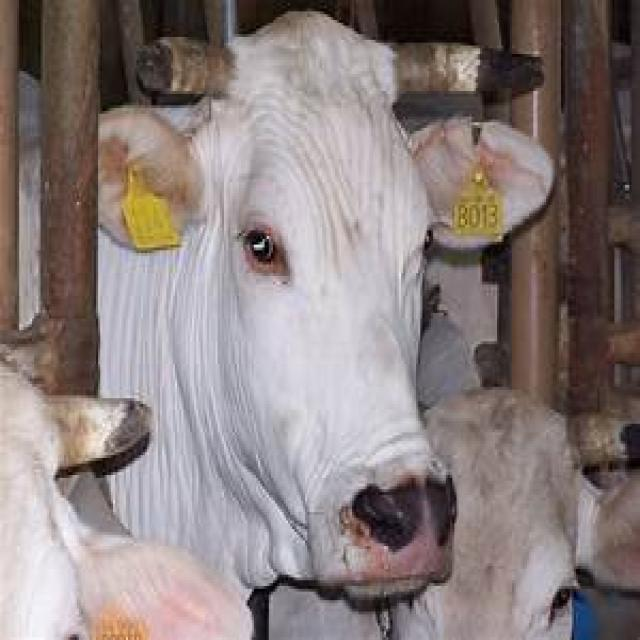cow: (70, 11, 461, 640), (375, 390, 580, 640)
